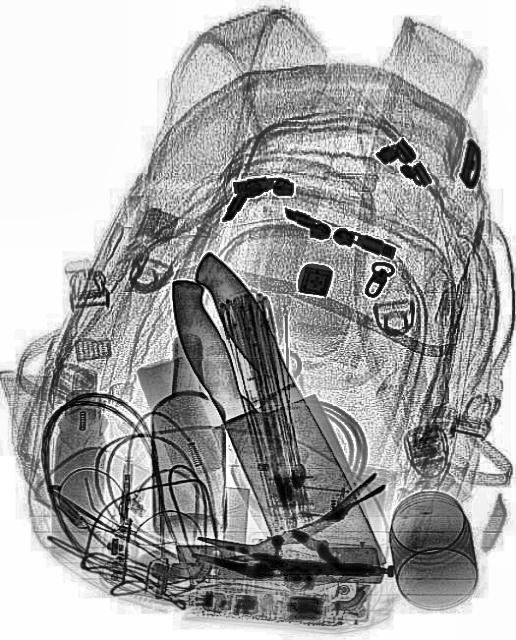Knife: (142, 236, 384, 612), (157, 239, 392, 609)
